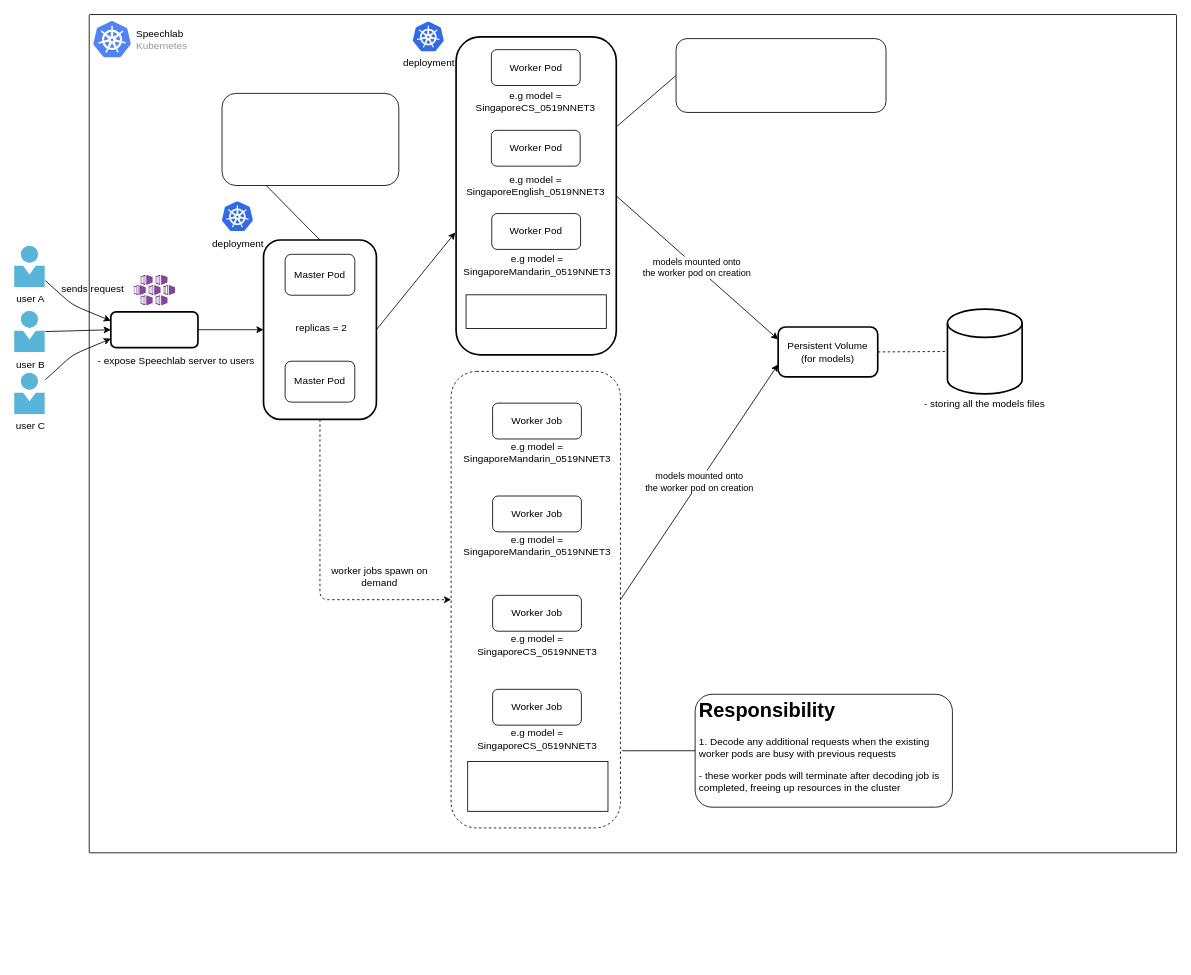
Image size: 1191x975. Some labels were removed from this diagram. The box of each missing label's shape, as (x1, y1, x2, y2) in pixels:
Azure Files: (946, 308, 1023, 394)
can have more worker jobs if Kubernetes cluster has enough resources: (467, 761, 608, 811)
Master Service (Load Balancer): (110, 311, 198, 348)
One worker pod per model replicas = 1: (465, 294, 606, 329)
Responsibilities 1. Load Balancing 2. Spawn new job workers: (221, 93, 399, 186)
Responsibility 1. Standby to decode any incoming requests: (675, 38, 886, 112)
